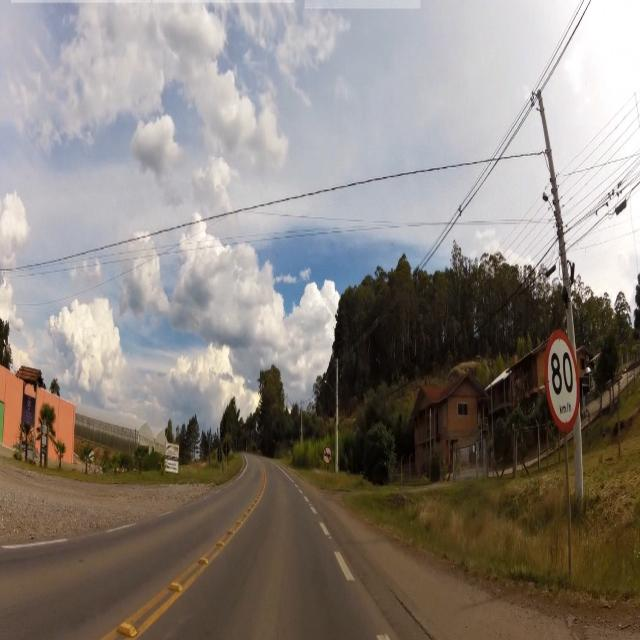R-19: (542, 319, 585, 446)
